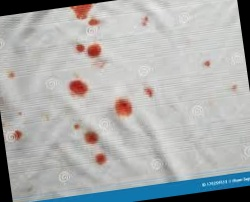blood: (70, 4, 102, 30), (76, 41, 102, 59), (114, 97, 133, 117), (69, 78, 89, 96), (94, 150, 107, 166), (83, 131, 98, 144), (11, 128, 24, 143), (144, 85, 153, 98), (74, 122, 81, 129)
